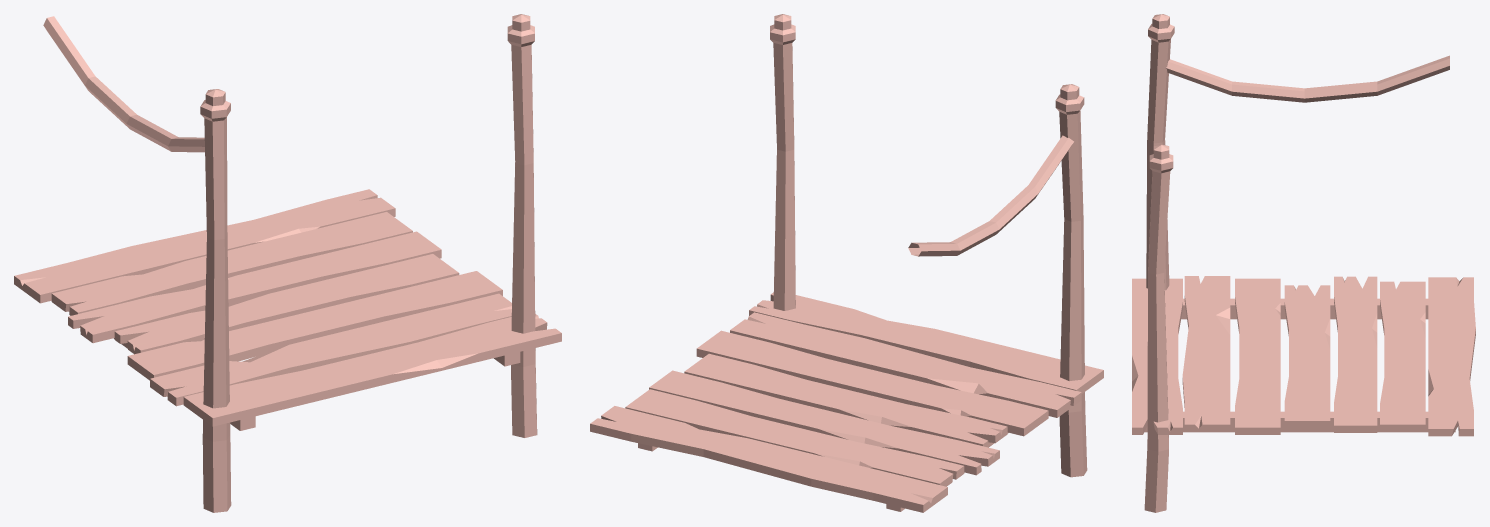
The model's file is Mega_Asset_s_Pack_Cube_272.FBX.
3 views of the same model, side by side, from view 1: azimuth 30°, elevation 25°; view 2: azimuth 150°, elevation 25°; view 3: azimuth 270°, elevation 25° (orthographic). The views are drawn at different scales.
Visible parts, largest first — view 1: Mega_Asset_s_Pack_Cube_272; view 2: Mega_Asset_s_Pack_Cube_272; view 3: Mega_Asset_s_Pack_Cube_272.
Boxes of the visible parts, x1,y1,x2,y2 form: Mega_Asset_s_Pack_Cube_272: (14,14,561,512); Mega_Asset_s_Pack_Cube_272: (590,14,1103,512); Mega_Asset_s_Pack_Cube_272: (1132,14,1475,512).
Size of what is drawn, in the model's own units: 300 by 285 by 331.
